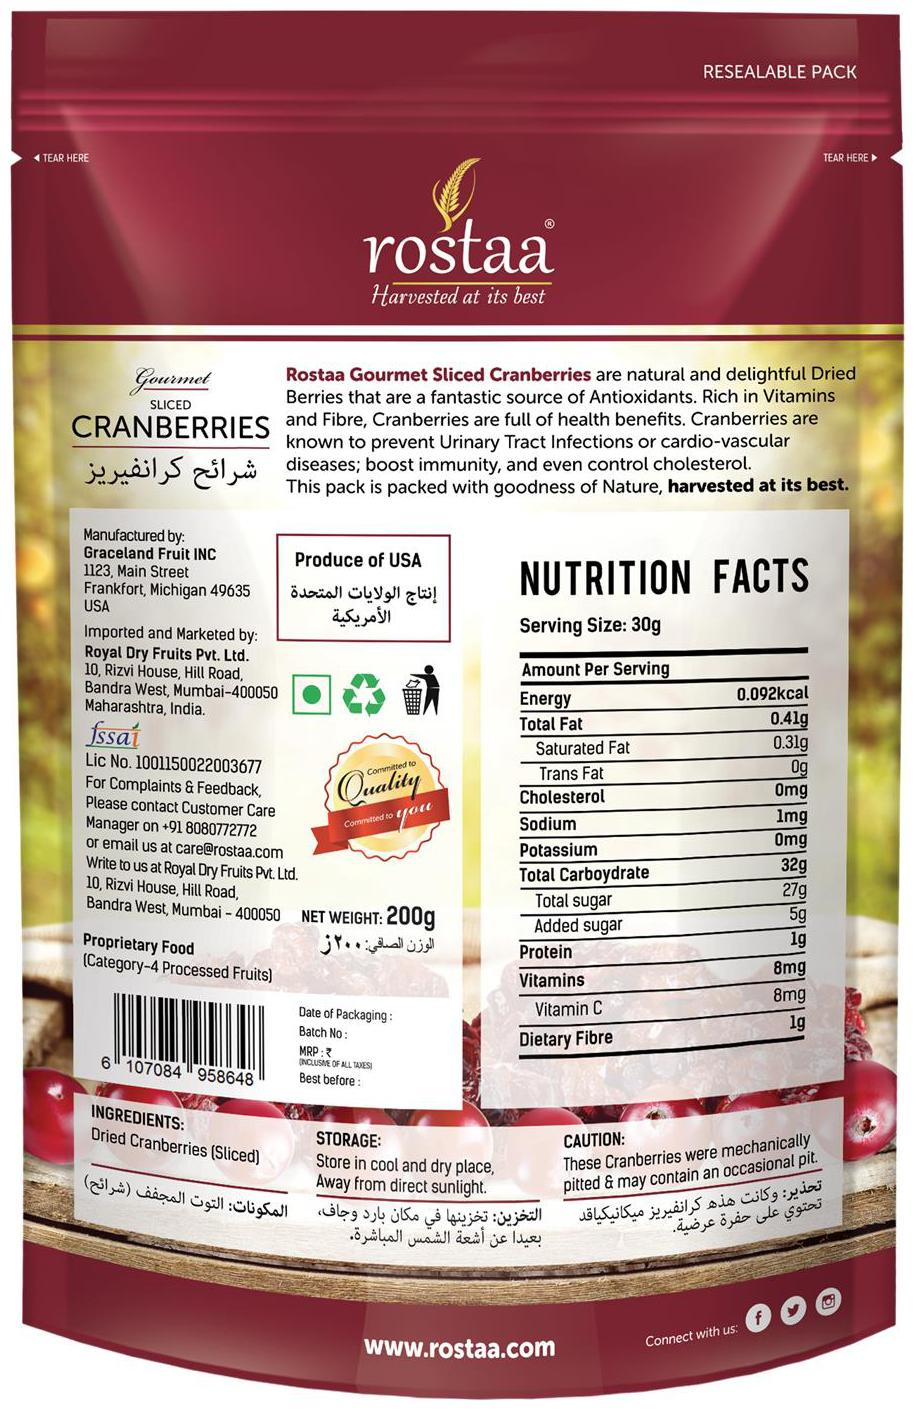fssai: (82, 718, 142, 750)
